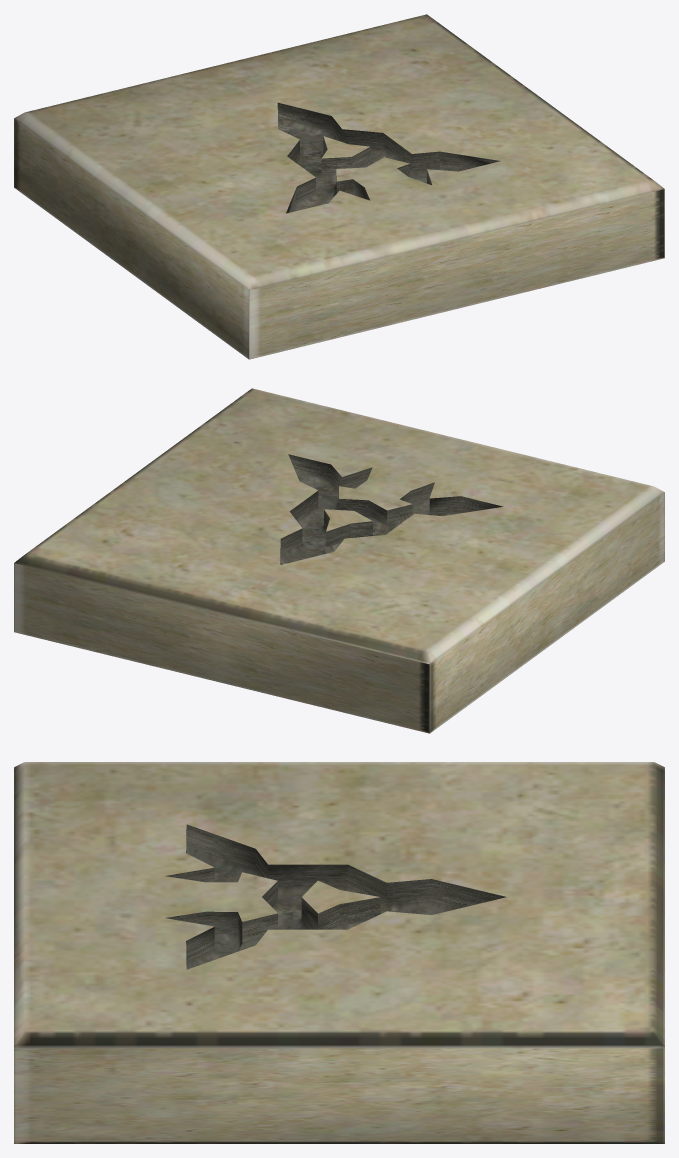
The model's file is DWARF_PALACE_THRONE_KEYPAD01.fbx.
The picture shows the model from 3 angles, top to bottom: view 1: azimuth 30°, elevation 25°; view 2: azimuth 150°, elevation 25°; view 3: azimuth 270°, elevation 25°; orthographic projection. The views are drawn at different scales.
Visible parts, largest first — view 1: DWARF_PALACE_THRONE_KEYPAD01; view 2: DWARF_PALACE_THRONE_KEYPAD01; view 3: DWARF_PALACE_THRONE_KEYPAD01.
Part boxes in pixels (x1,y1,x2,y2): DWARF_PALACE_THRONE_KEYPAD01: [14, 14, 664, 359]; DWARF_PALACE_THRONE_KEYPAD01: [14, 388, 664, 733]; DWARF_PALACE_THRONE_KEYPAD01: [14, 762, 664, 1143].
Size of the model in its own units: 14154 by 2481 by 13862.
2 materials, 2 textured.
